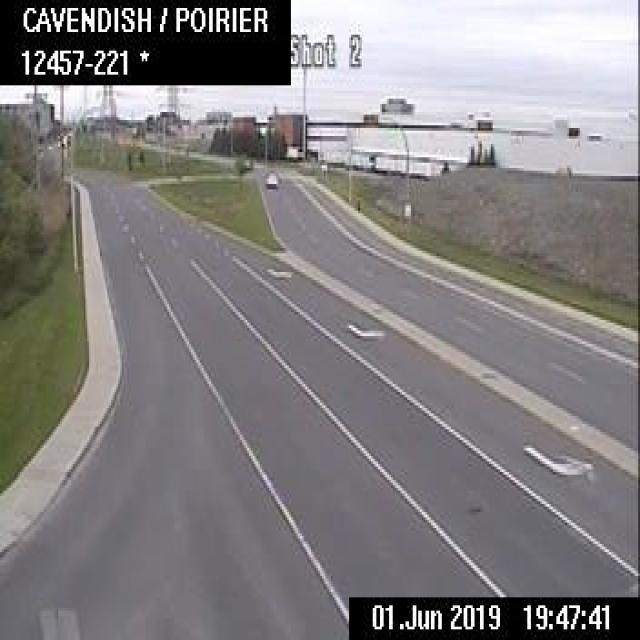vehicle: (263, 170, 277, 186)
